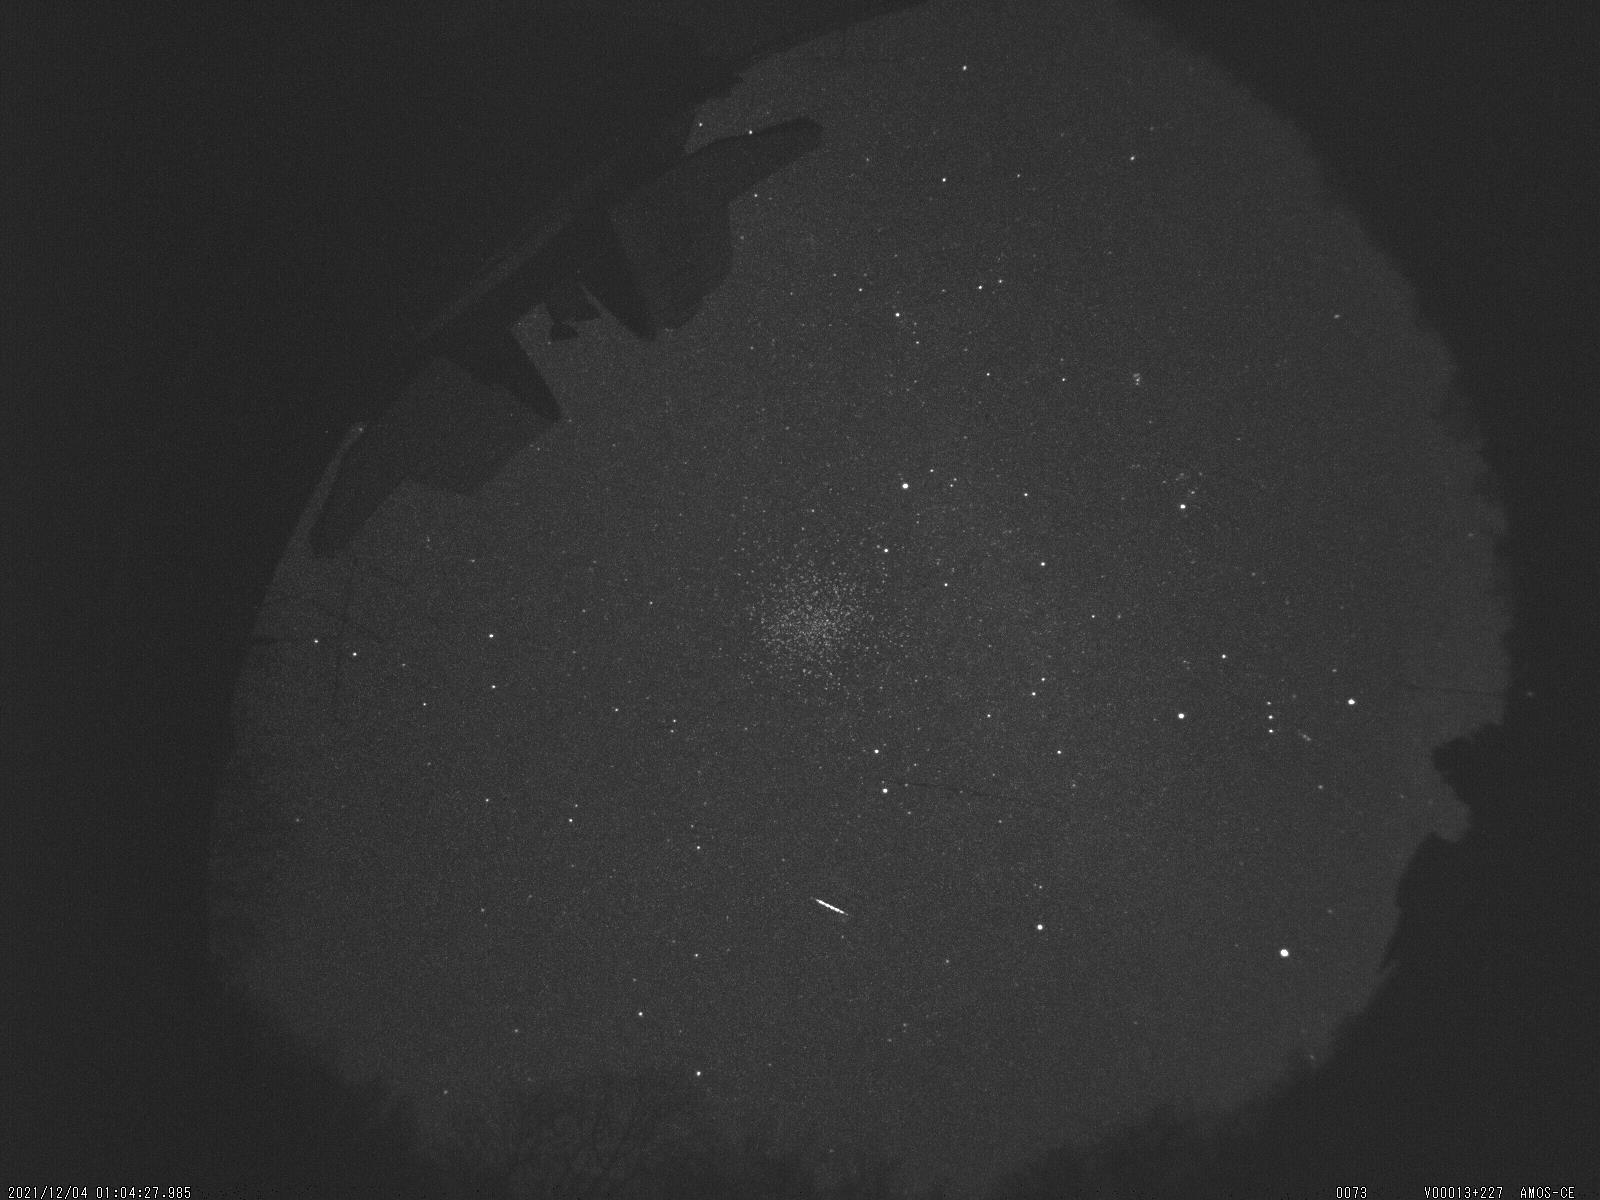Meteor: (804, 882, 859, 929)
